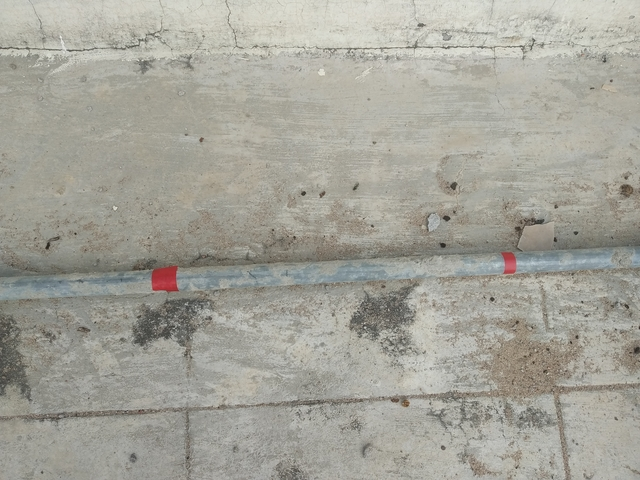rust: (148, 263, 181, 298), (497, 248, 522, 279)
